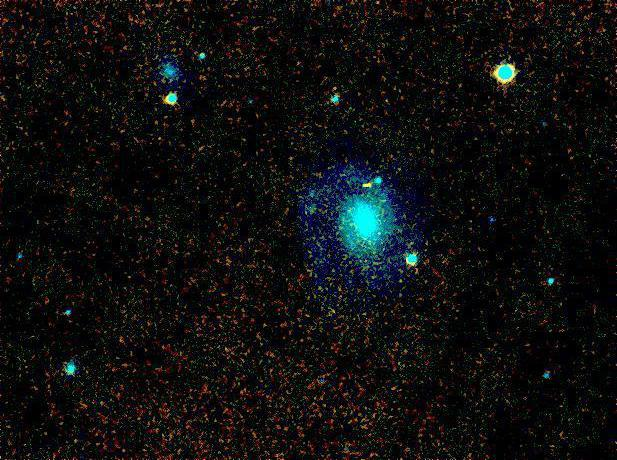star: (362, 168, 392, 198)
